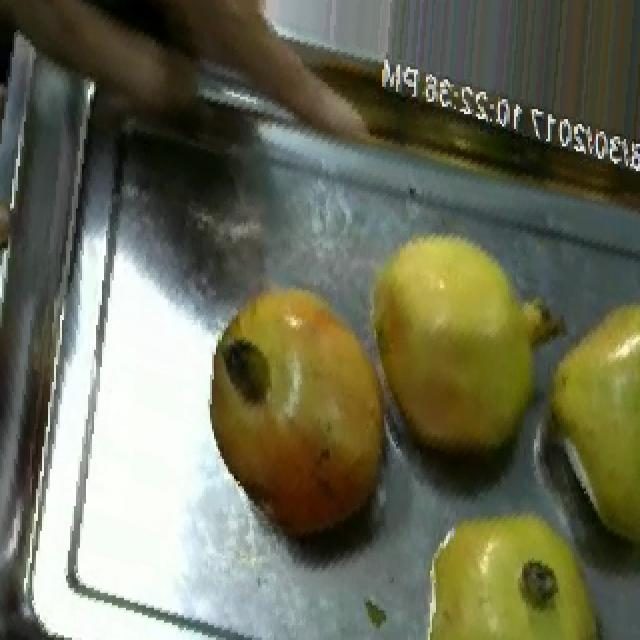fruit: (336, 198, 592, 474), (176, 278, 418, 566), (394, 476, 624, 640)
